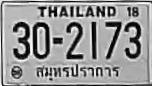0: (32, 21, 49, 58)
1: (91, 21, 96, 59)
2: (65, 22, 82, 58)
3: (12, 21, 29, 59), (124, 21, 140, 58)
7: (104, 20, 121, 58)
SPK: (33, 62, 125, 84)
